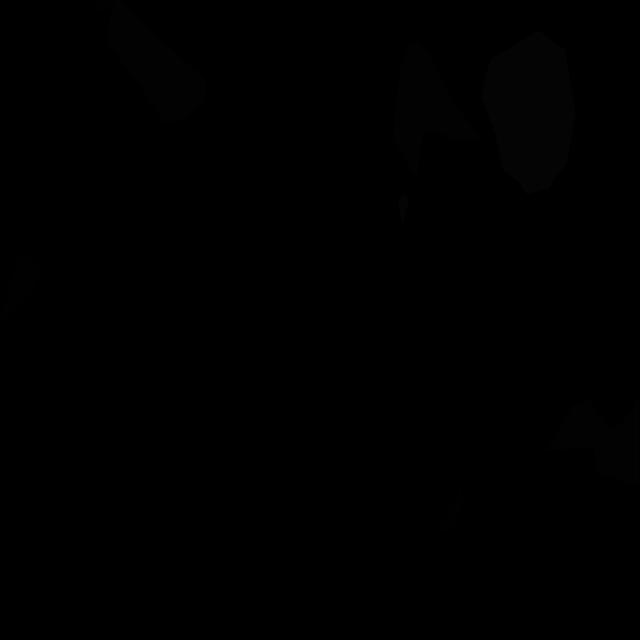cardboard: (392, 43, 484, 177), (107, 0, 206, 123), (546, 399, 639, 487)
rigid_plastic: (0, 252, 40, 327), (433, 486, 464, 538), (91, 0, 115, 12)
soft_plastic: (481, 31, 576, 194), (398, 194, 409, 227)
